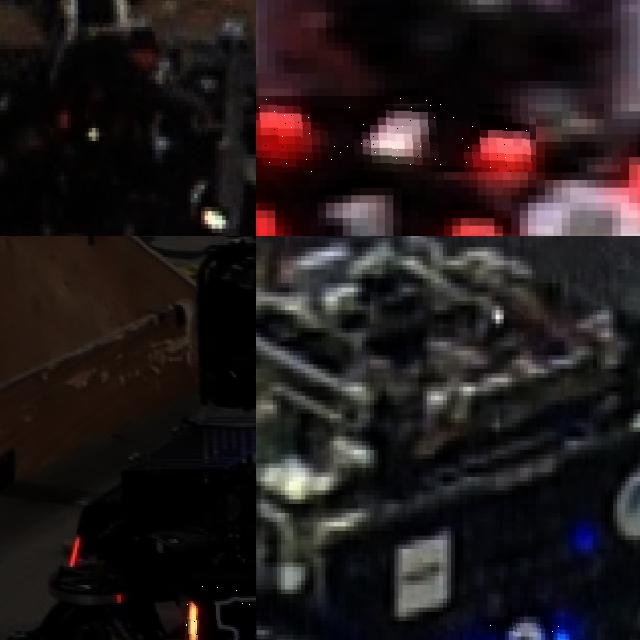B2: (479, 616, 572, 640)
R1: (256, 96, 536, 172), (256, 187, 511, 236)
Rs: (180, 581, 256, 640)
